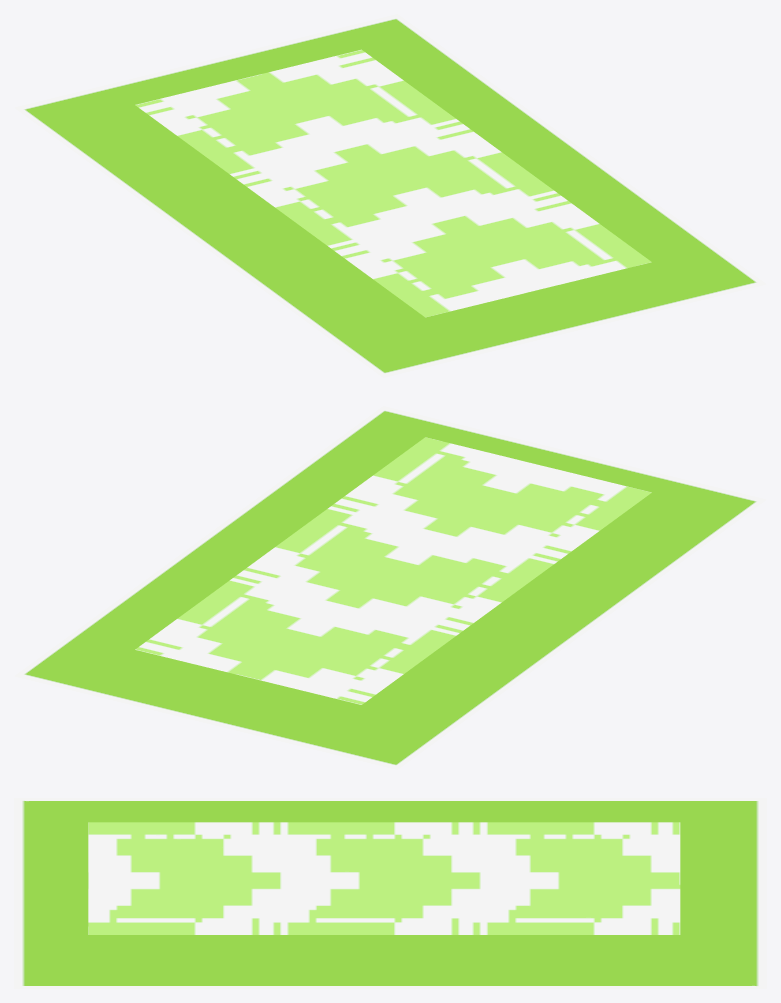
The model's file is arrow.glb.
The picture shows the model from 3 angles, top to bottom: view 1: azimuth 30°, elevation 25°; view 2: azimuth 150°, elevation 25°; view 3: azimuth 270°, elevation 25°; orthographic projection.
Visible parts, largest first — view 1: Plane.001, Plane.002; view 2: Plane.001, Plane.002; view 3: Plane.001, Plane.002.
Part boxes in pixels (bbox=[...]): Plane.001: bbox=[14, 14, 766, 377]; Plane.002: bbox=[135, 49, 651, 317]; Plane.001: bbox=[14, 406, 766, 769]; Plane.002: bbox=[135, 437, 651, 704]; Plane.001: bbox=[14, 798, 766, 988]; Plane.002: bbox=[88, 822, 680, 934].
Bounding box in the file's own units: 8.73 × 0.318 × 14.55.
2 materials, 2 textured.
